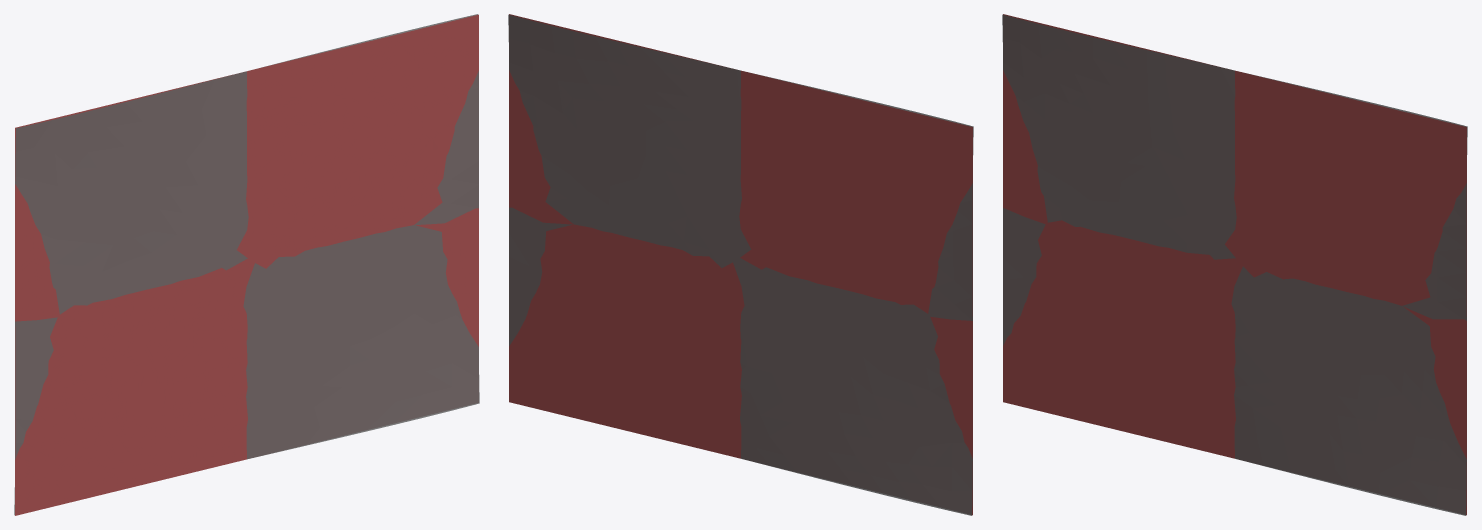
The model's file is warping-rectangle-80-100-353.glb.
The picture shows the model from 3 angles, left to right: view 1: azimuth 30°, elevation 25°; view 2: azimuth 150°, elevation 25°; view 3: azimuth 330°, elevation 25°; orthographic projection.
Parts seen in each view (by area): view 1: undeformed cross-section, cross-section with warping; view 2: undeformed cross-section, cross-section with warping; view 3: undeformed cross-section, cross-section with warping.
Part boxes in pixels (left/top/right/bottom): undeformed cross-section: left=15, top=14, right=478, bottom=515; cross-section with warping: left=14, top=14, right=479, bottom=515; undeformed cross-section: left=509, top=14, right=972, bottom=515; cross-section with warping: left=508, top=14, right=973, bottom=515; undeformed cross-section: left=1003, top=14, right=1466, bottom=515; cross-section with warping: left=1002, top=14, right=1467, bottom=515.
Size of the model in its own units: 0.1 by 0.08 by 0.0011.
